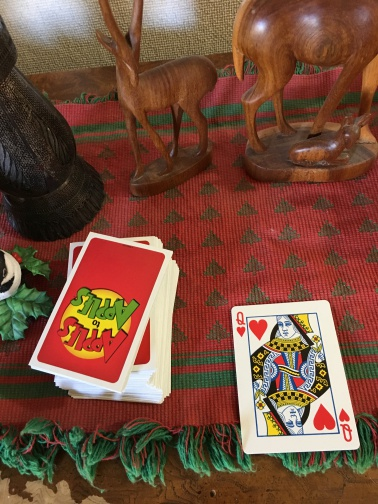queen: (231, 298, 361, 453)
